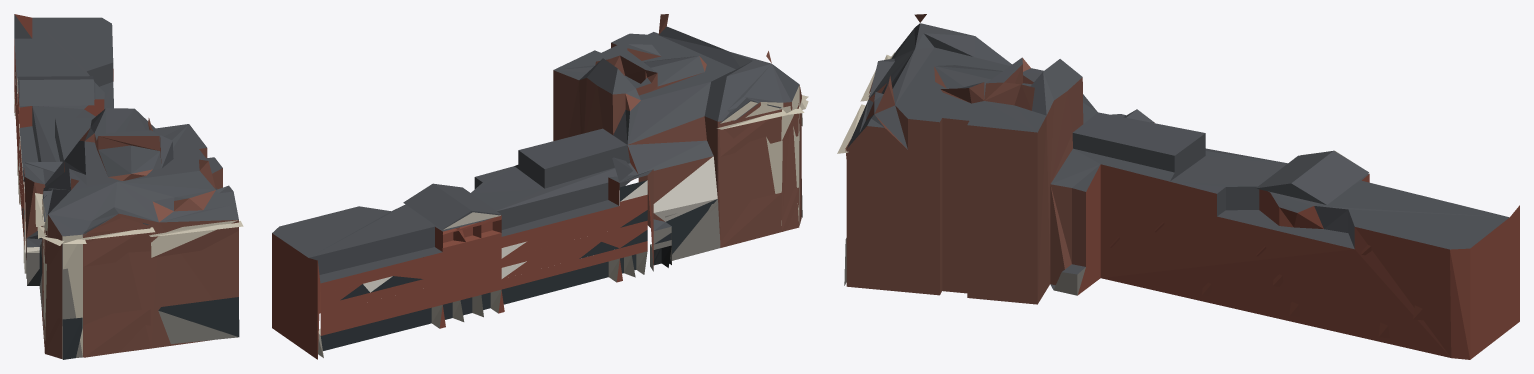
The model's file is spiegelhof.lod2.glb.
3 views of the same model, side by side, from view 1: azimuth 30°, elevation 25°; view 2: azimuth 150°, elevation 25°; view 3: azimuth 270°, elevation 25° (orthographic). The views are drawn at different scales.
Visible parts, largest first — view 1: lod2; view 2: lod2; view 3: lod2.
Part boxes in pixels (x1,y1,x2,y2): lod2: (14, 14, 243, 359); lod2: (272, 14, 808, 359); lod2: (837, 14, 1519, 359).
Bounding box in the file's own units: 50.74 × 28.04 × 85.28.
